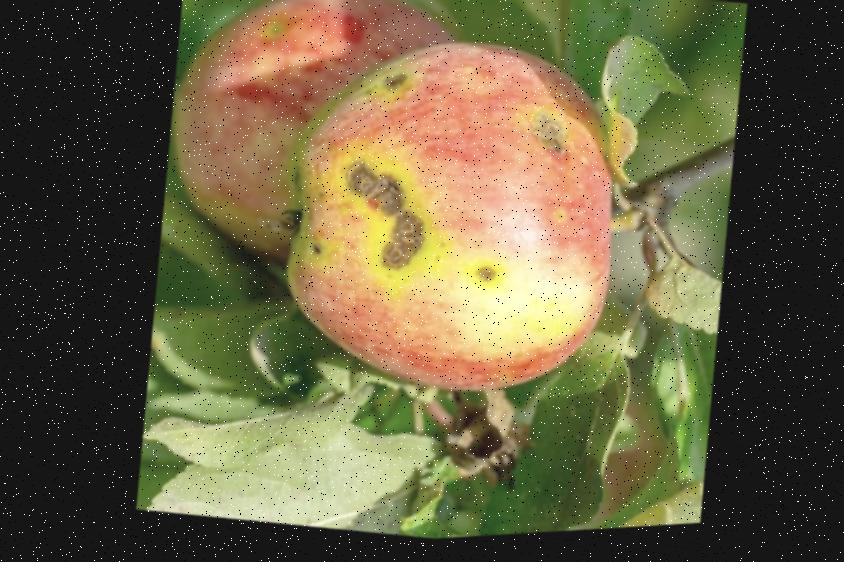SCAB: (149, 0, 684, 502)
